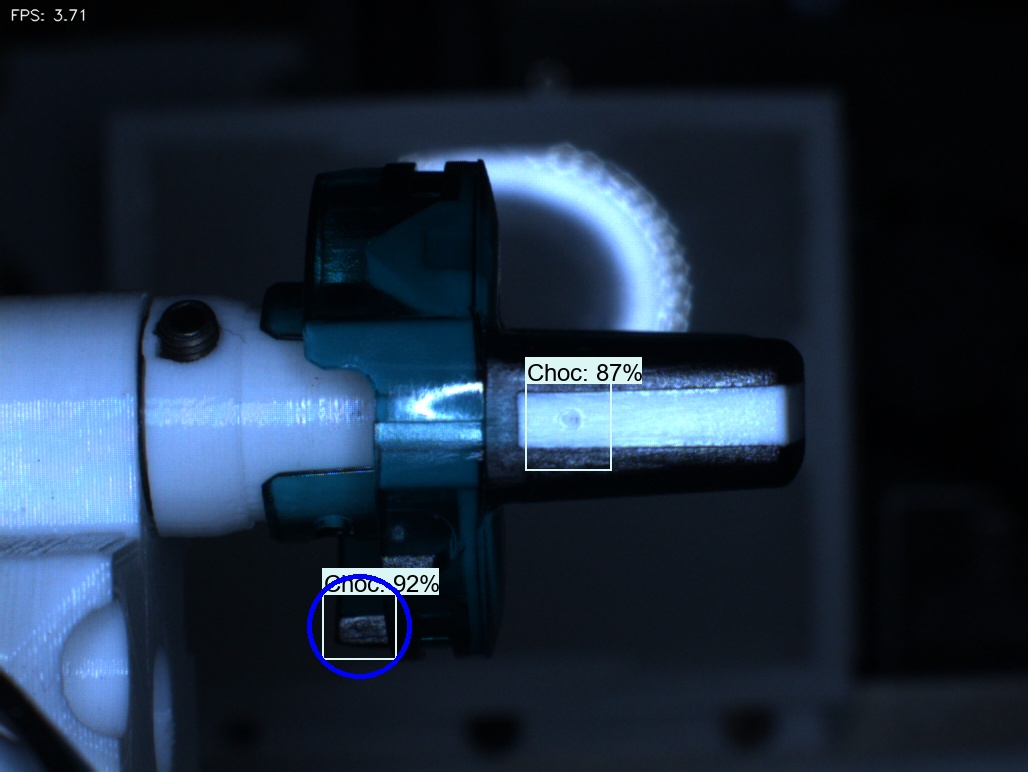DentOk: (338, 210, 411, 302)
